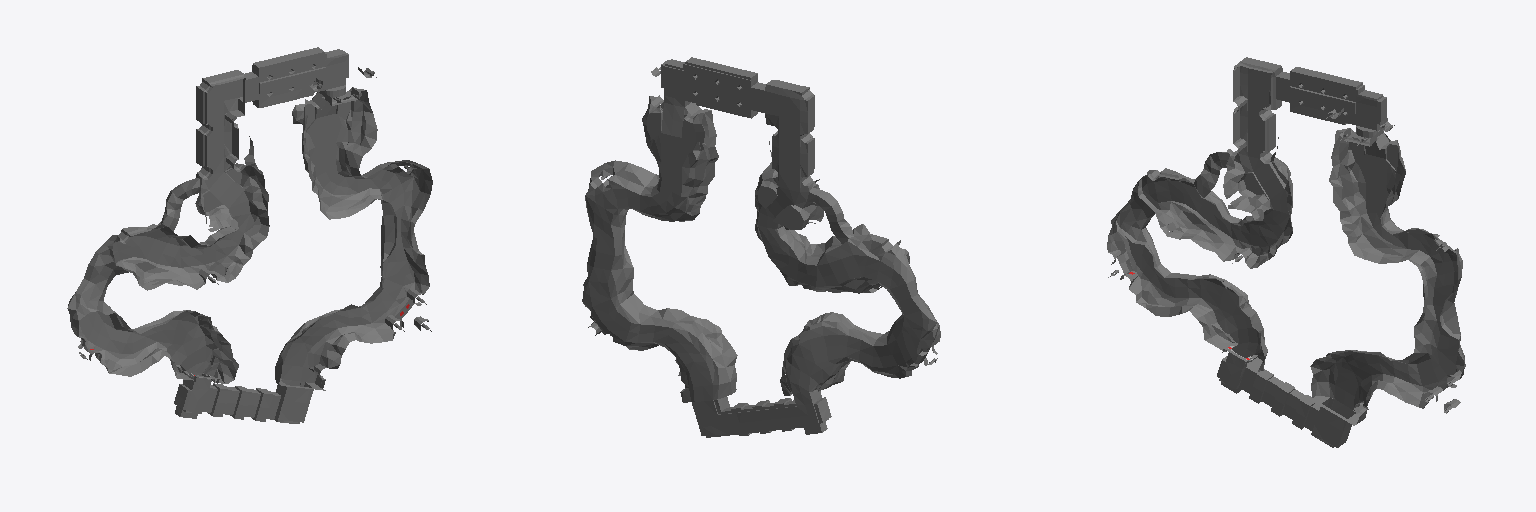
File: RKTK.GDB.obj
3 renders of one model, left to right at view 1: azimuth 30°, elevation 25°; view 2: azimuth 150°, elevation 25°; view 3: azimuth 330°, elevation 25°, orthographic.
Bounding box in the file's own units: 1454 × 1426 × 202.